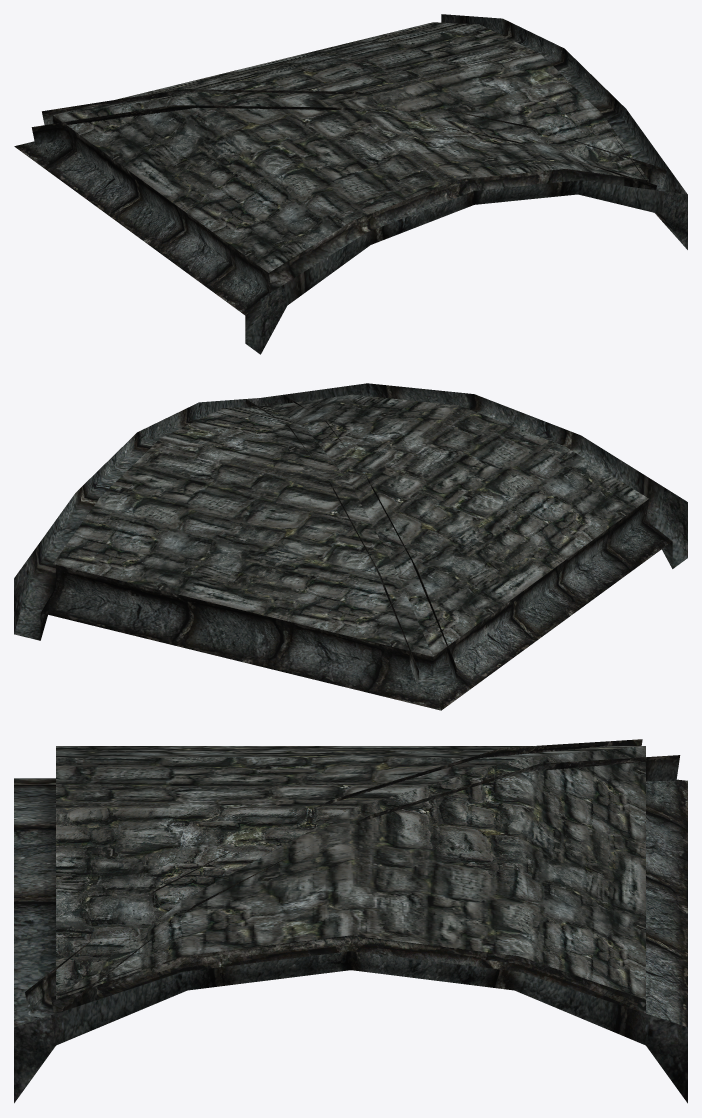
The model's file is corridor02_turn.dae.
3 views of the same model, one above another, from view 1: azimuth 30°, elevation 25°; view 2: azimuth 150°, elevation 25°; view 3: azimuth 270°, elevation 25° (orthographic). The views are drawn at different scales.
Parts seen in each view (by area): view 1: polySurface144, polySurface145, polySurface153; view 2: polySurface144, polySurface145, polySurface153; view 3: polySurface144, polySurface145, polySurface153.
Boxes of the visible parts, x1,y1,x2,y2 form: polySurface144: [53, 22, 648, 272]; polySurface145: [14, 14, 687, 354]; polySurface153: [31, 89, 666, 190]; polySurface144: [53, 394, 648, 656]; polySurface145: [14, 383, 687, 710]; polySurface153: [246, 395, 456, 687]; polySurface144: [56, 746, 645, 999]; polySurface145: [14, 778, 687, 1103]; polySurface153: [25, 739, 680, 1018].
Bounding box in the file's own units: 4 × 1.01 × 4.
